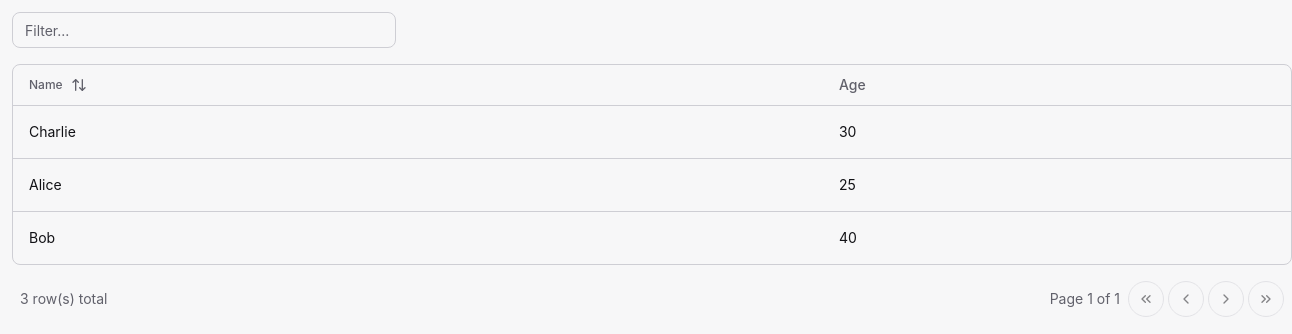
Test: DataTable › filter that matches nothing shows the empty-state row
This screenshot has width=1292, height=334.
Type "zzz-no-match" into the field with placeholder "Filter..." at (204, 30), box [12, 12, 396, 48]
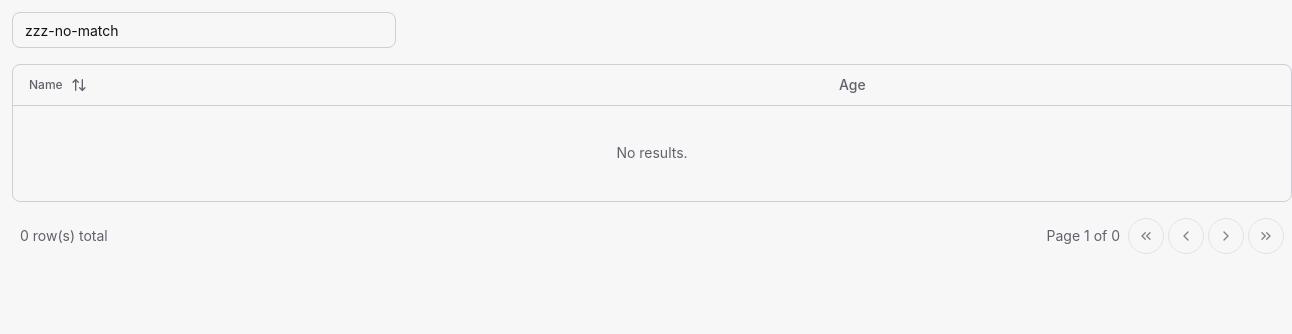
Result: the text "No results." is shown at [13, 105, 1291, 201]
